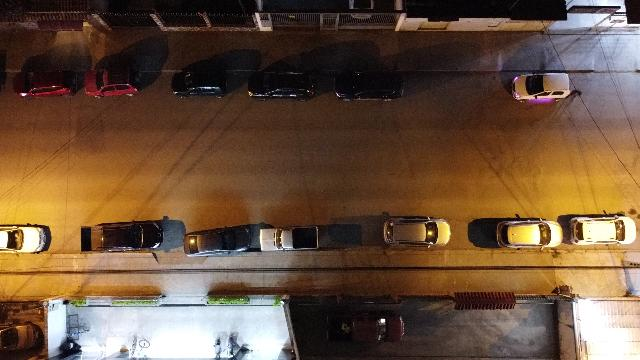Vehiculo: (326, 310, 404, 344), (81, 221, 162, 251), (333, 71, 405, 102), (182, 225, 251, 256), (248, 70, 316, 100), (569, 215, 636, 245), (384, 216, 450, 246), (496, 219, 562, 249), (13, 70, 81, 99), (511, 73, 571, 103), (84, 68, 140, 98), (172, 70, 226, 98), (260, 226, 319, 251), (0, 224, 51, 252), (0, 321, 44, 351)
